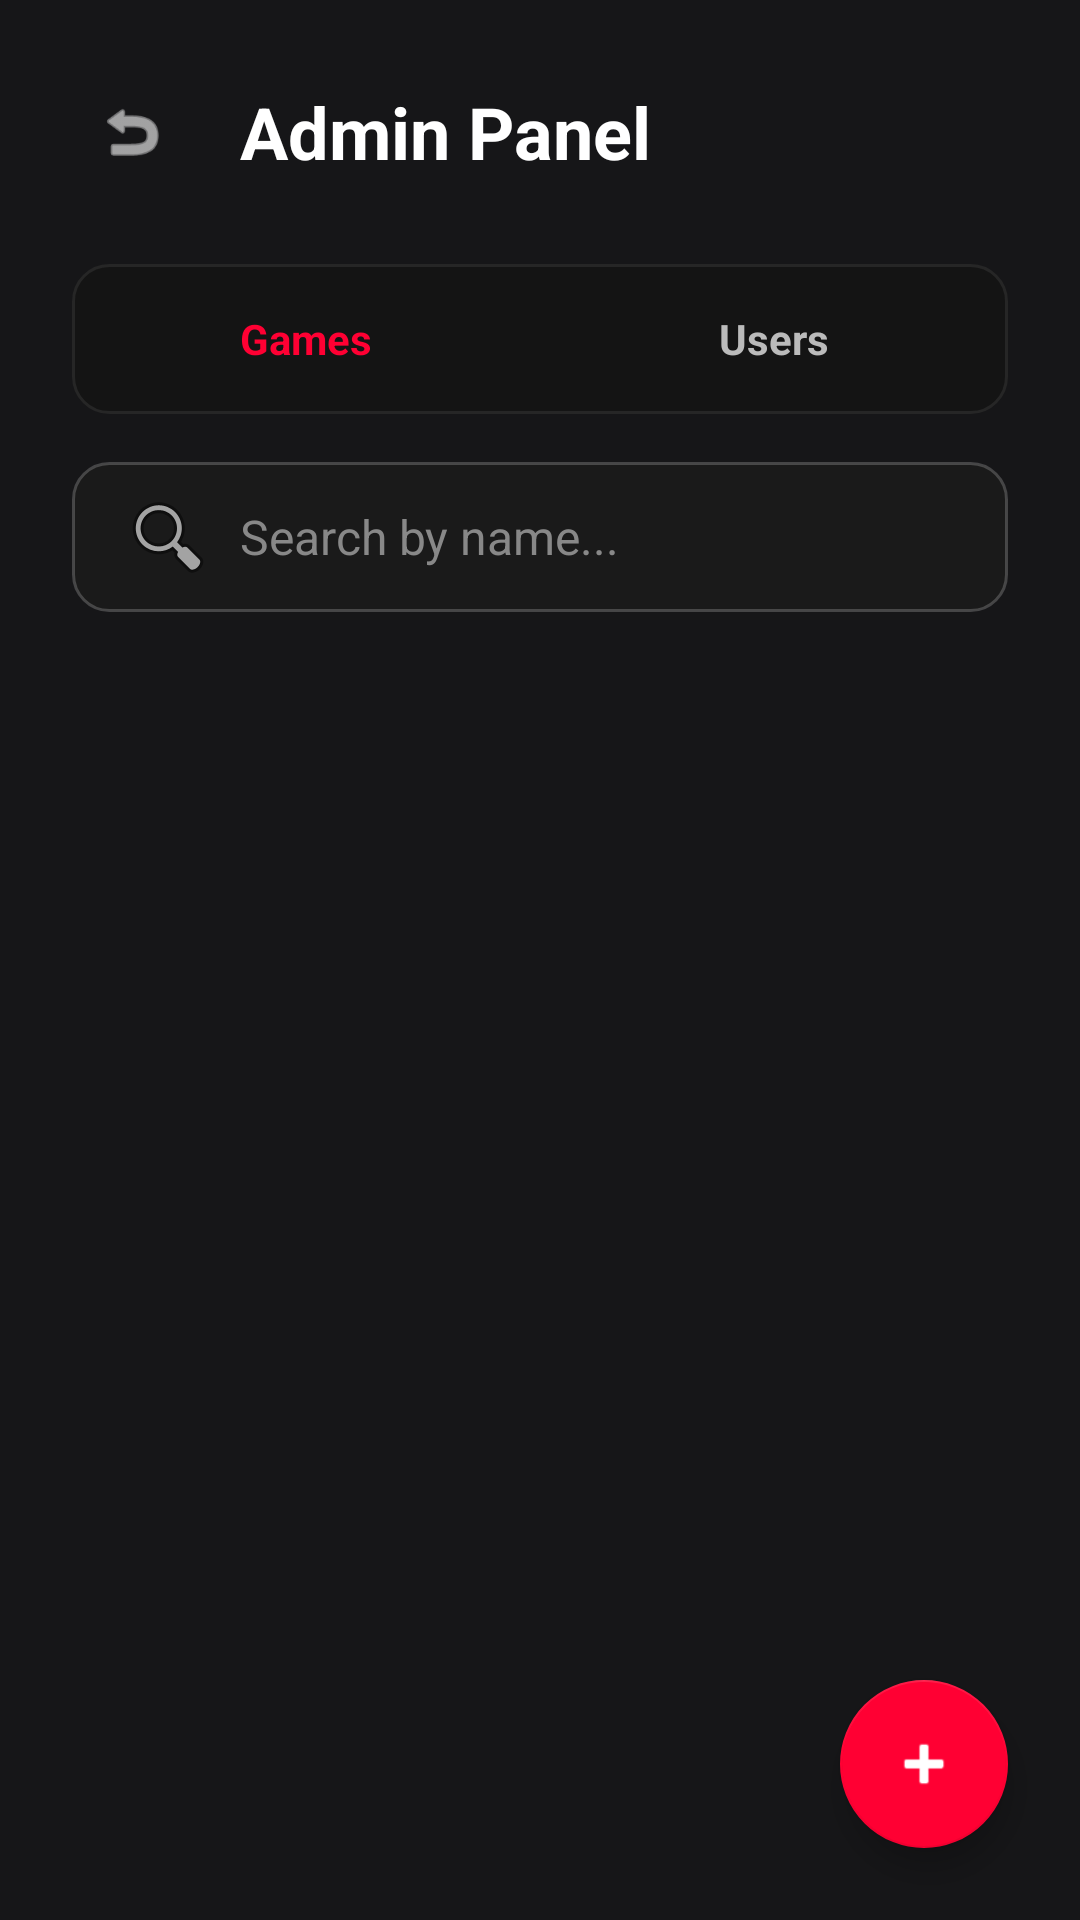

Screen size 1080px x 1920px. Icon name, then its box in pixels as [x1, y1, x2, y2]:
add: [840, 1680, 1008, 1848]
revert: [107, 109, 159, 156]
